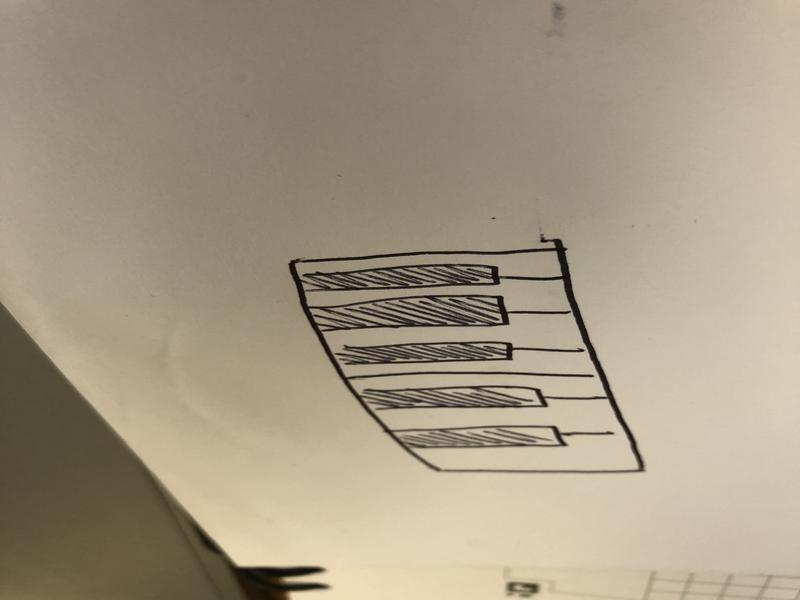piano: (281, 240, 668, 484)
